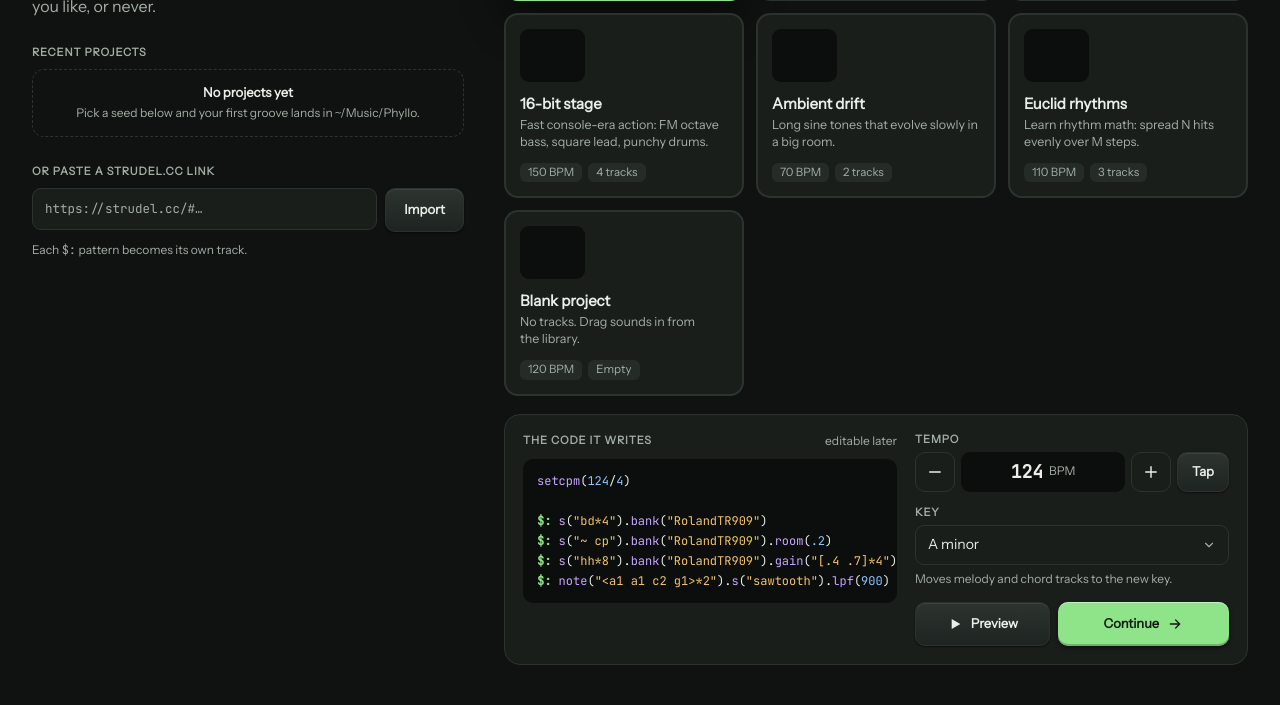
Scenario: StarterPicker › should nudge the tempo by one BPM and update setcpm live
(page scrolled)
Click the button named "Faster".
click(1151, 472)  # box [1131,452,1171,492]
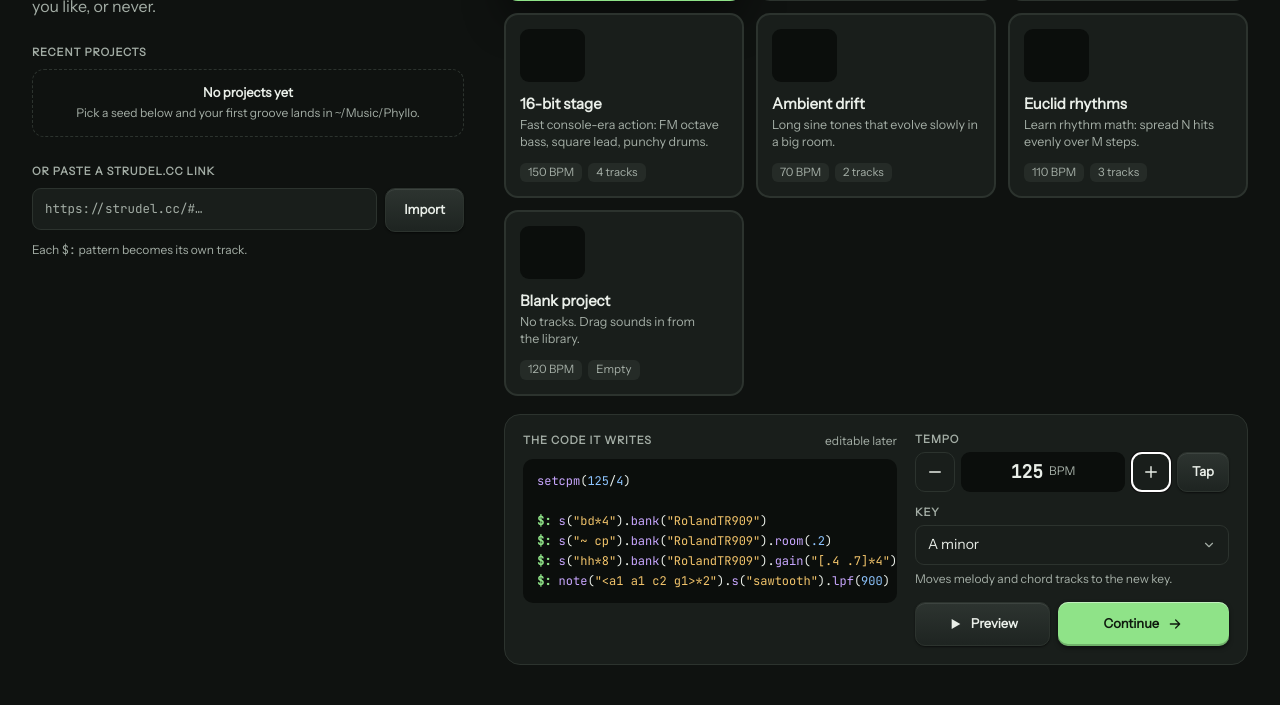
Click the button named "Faster".
click(1151, 472)  # box [1131,452,1171,492]
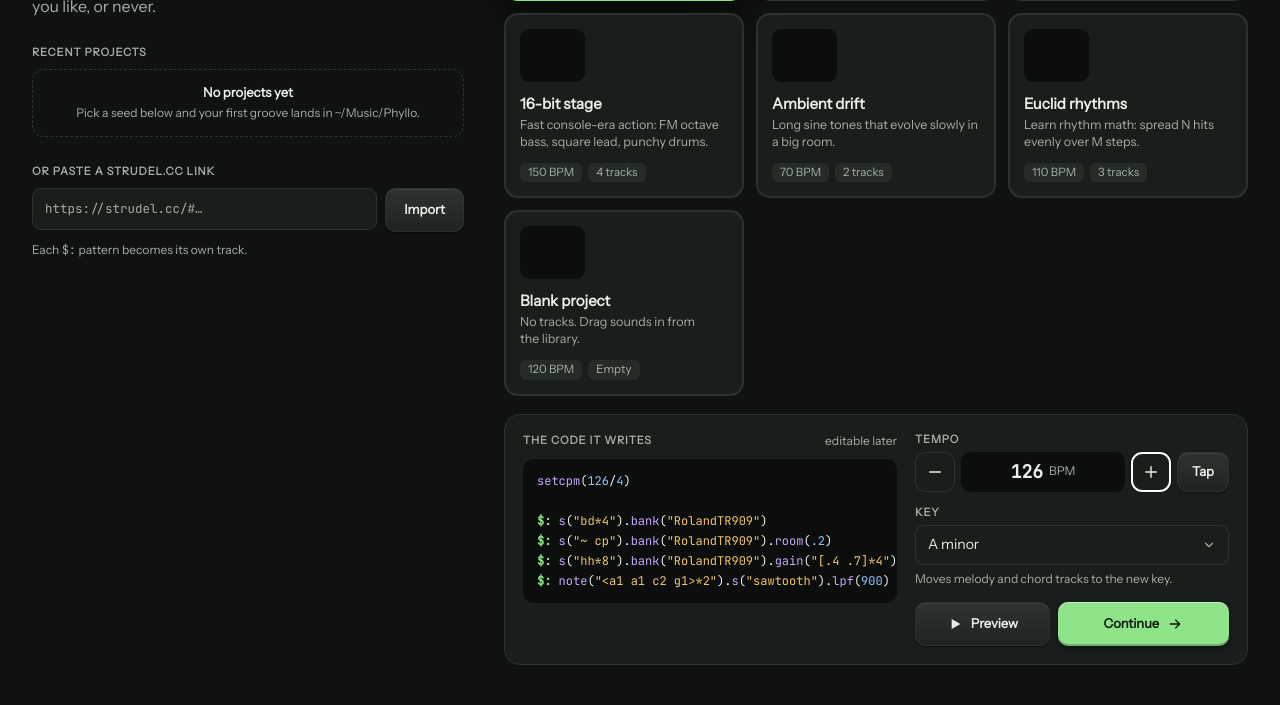
Click the button named "Slower".
click(935, 472)  # box [915,452,955,492]
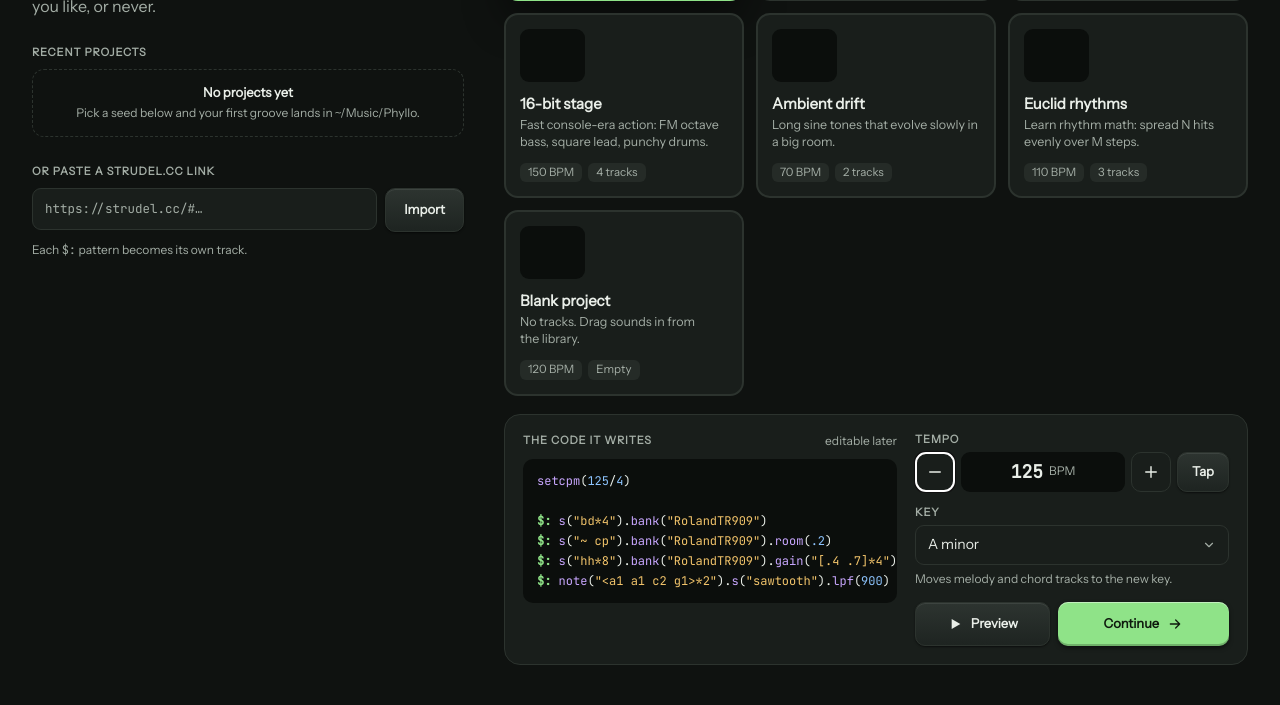
Check: the field named "Tempo in BPM" holds "125", box [1011,462,1043,482]
Check: the field named "The code it writes" shows "setcpm(125/4)", box [523,459,897,603]
